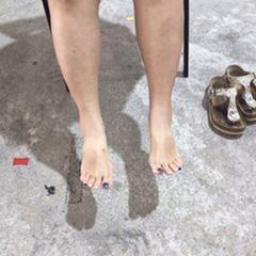Dorsal View -Both Feet-: (67, 93, 191, 196)
